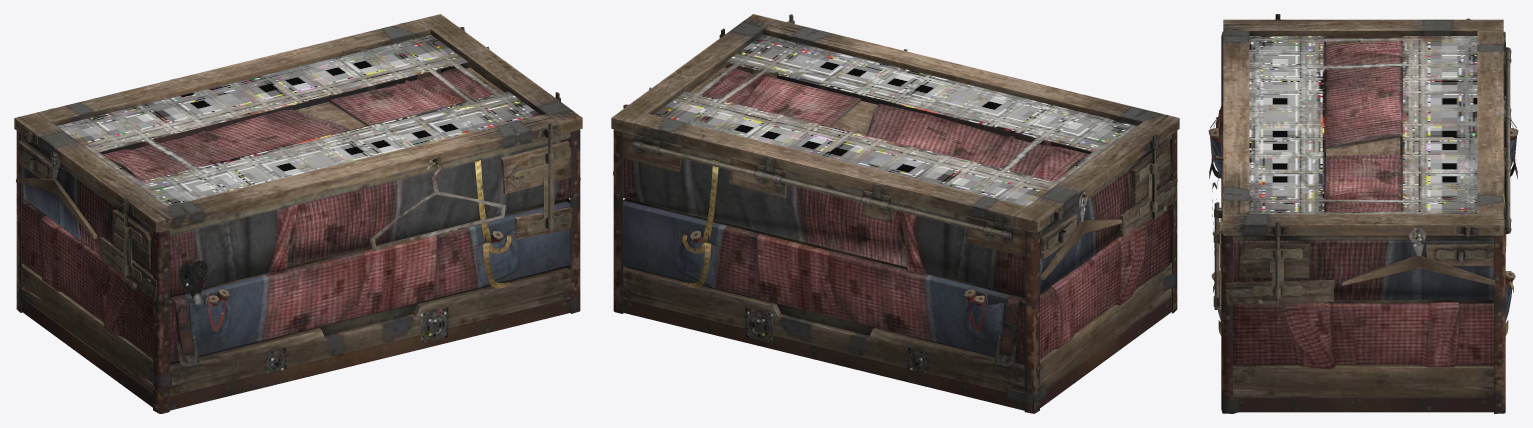
The model's file is component_box_clothing.glb.
3 views of the same model, side by side, from view 1: azimuth 30°, elevation 25°; view 2: azimuth 150°, elevation 25°; view 3: azimuth 270°, elevation 25° (orthographic).
Visible parts, largest first — view 1: component_box_clothing; view 2: component_box_clothing; view 3: component_box_clothing.
Part boxes in pixels (bbox=[...]): component_box_clothing: bbox=[14, 14, 582, 413]; component_box_clothing: bbox=[611, 14, 1179, 413]; component_box_clothing: bbox=[1208, 14, 1518, 413].
Bounding box in the file's own units: 1.86 × 0.7982 × 1.15.
1 material, 1 textured.
